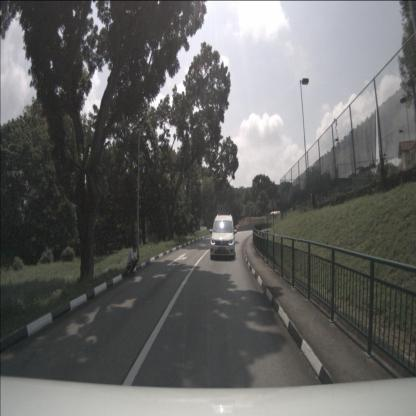human-pedestrian-adult: (126, 244, 140, 277)
vehicle-bus-rigid: (271, 211, 282, 223)
vehicle-car: (210, 214, 235, 260)
